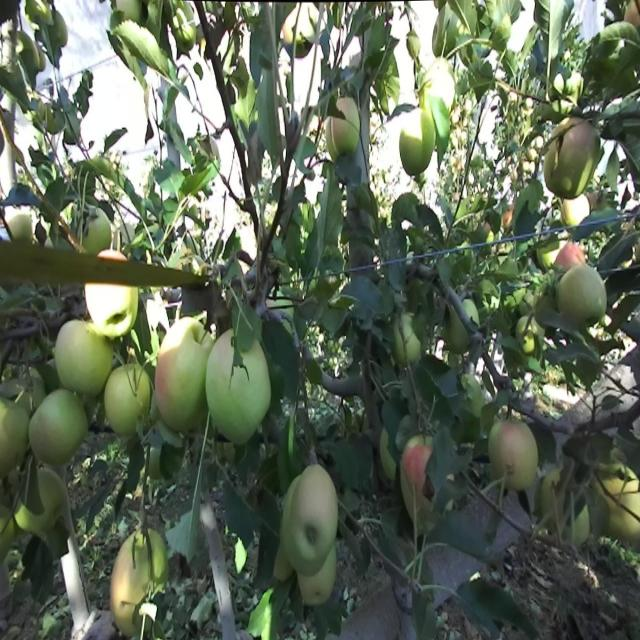apple: (152, 308, 209, 439), (210, 333, 272, 448), (156, 326, 209, 441), (112, 525, 168, 633), (288, 461, 340, 576), (32, 390, 89, 473), (156, 348, 204, 439), (60, 319, 113, 398), (104, 364, 155, 439), (232, 340, 272, 432), (556, 241, 596, 329), (496, 419, 541, 496), (556, 120, 601, 197), (120, 532, 168, 604), (556, 262, 607, 329), (20, 470, 67, 540), (88, 284, 140, 343), (0, 212, 38, 292), (112, 547, 146, 636), (296, 547, 339, 612), (16, 483, 64, 540), (84, 284, 128, 343), (0, 399, 31, 480), (100, 284, 140, 343), (400, 113, 435, 180), (328, 99, 360, 162), (32, 470, 68, 526), (400, 440, 434, 492), (152, 435, 187, 484), (292, 6, 314, 64), (444, 312, 472, 357), (16, 504, 51, 539), (564, 191, 592, 229), (556, 241, 587, 274), (16, 504, 44, 539), (516, 319, 539, 357), (276, 547, 295, 587), (620, 177, 637, 219), (148, 447, 167, 484), (296, 28, 313, 64), (280, 13, 295, 48), (504, 198, 518, 233), (4, 518, 17, 548), (296, 42, 313, 64)
